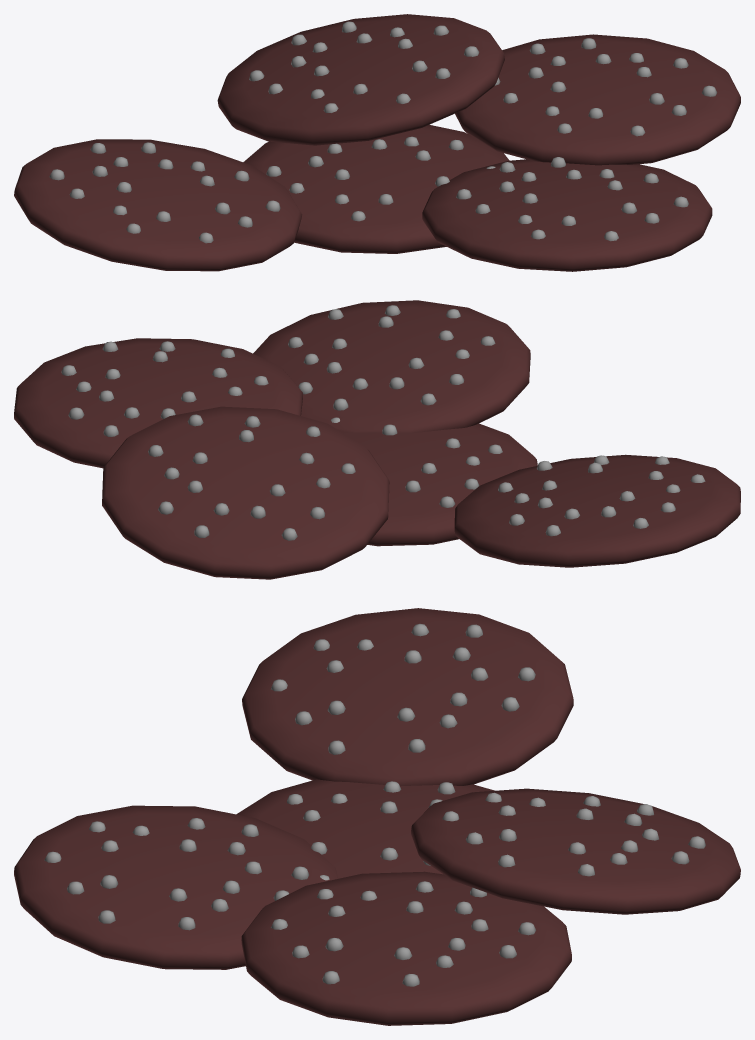
The model's file is Cookies_Model.FBX.
The picture shows the model from 3 angles, top to bottom: view 1: azimuth 30°, elevation 25°; view 2: azimuth 150°, elevation 25°; view 3: azimuth 270°, elevation 25°; orthographic projection. The views are drawn at different scales.
Visible parts, largest first — view 1: Cookies_Material; view 2: Cookies_Material; view 3: Cookies_Material.
Part boxes in pixels (bbox=[...]): Cookies_Material: bbox=[14, 14, 740, 271]; Cookies_Material: bbox=[14, 300, 740, 579]; Cookies_Material: bbox=[14, 608, 740, 1025].
Size of the model in its own units: 27.48 by 3.23 by 21.99.
